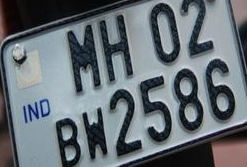0: (147, 2, 182, 65)
2: (107, 88, 145, 156), (178, 1, 217, 57)
5: (139, 74, 174, 143)
6: (205, 56, 237, 122)
8: (172, 67, 205, 132)
B: (52, 116, 83, 167)
H: (97, 14, 134, 82)
M: (65, 24, 104, 94)
W: (81, 107, 111, 161)
